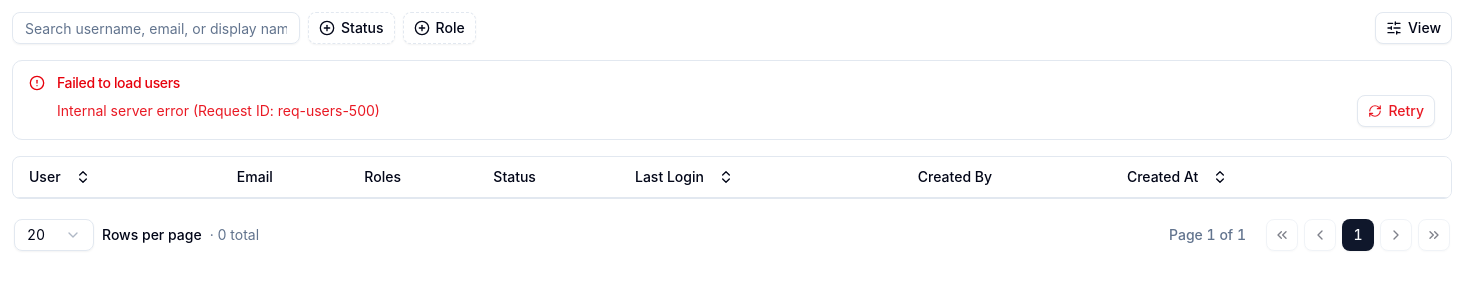
Test case: users feature › shows error alert without empty row on load failure and retries
expect the text "Failed to load users" is shown: met, box [57, 74, 180, 91]
Click the button "Retry" at (1396, 111), box [1357, 95, 1435, 127]
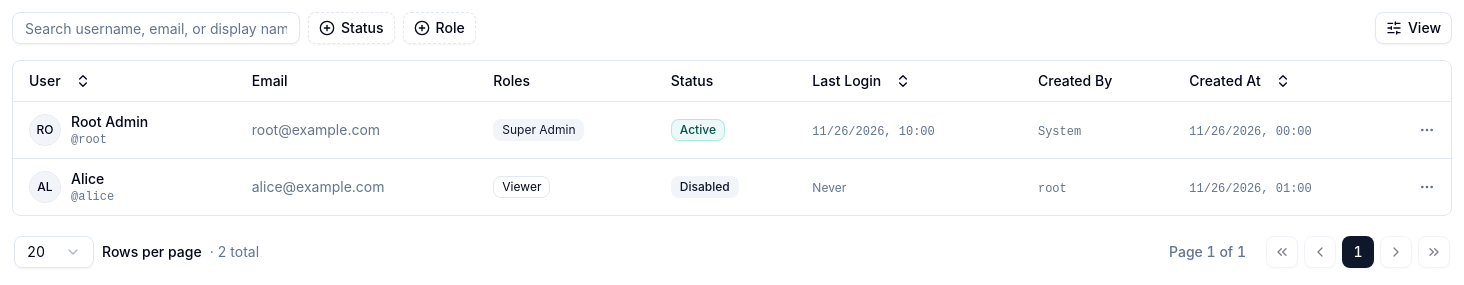
expect the text "Root Admin" is shown: met, box [71, 112, 148, 132]
